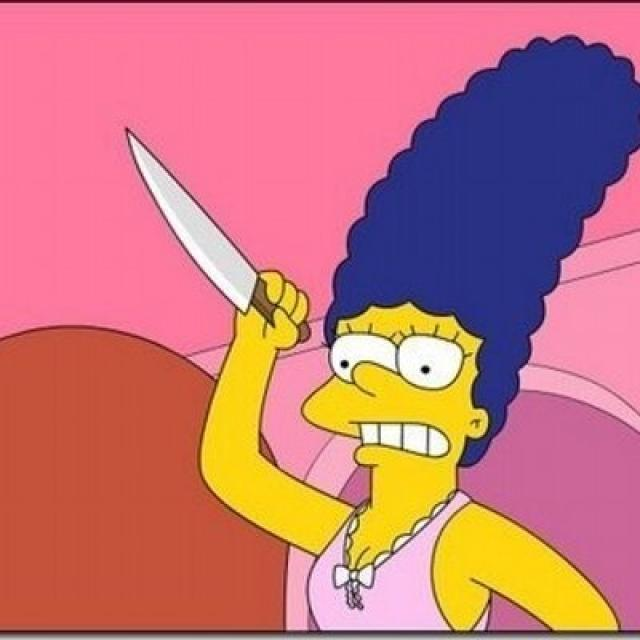Marge Simpson: (294, 29, 640, 528)
